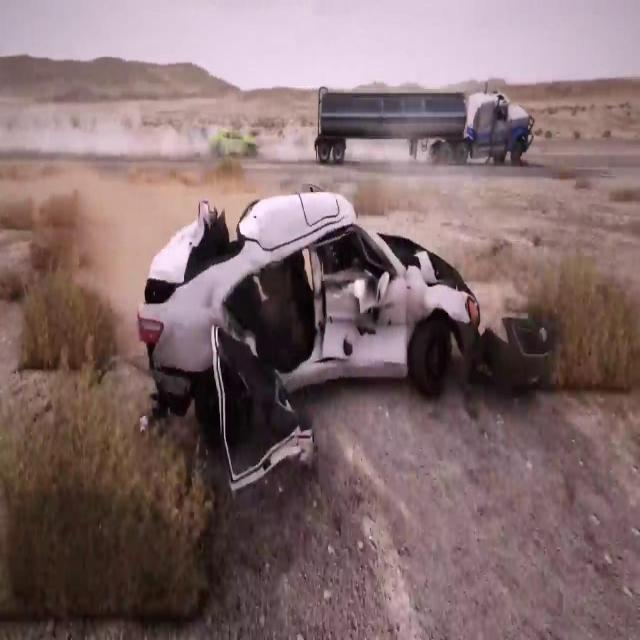severe: (133, 189, 487, 497)
